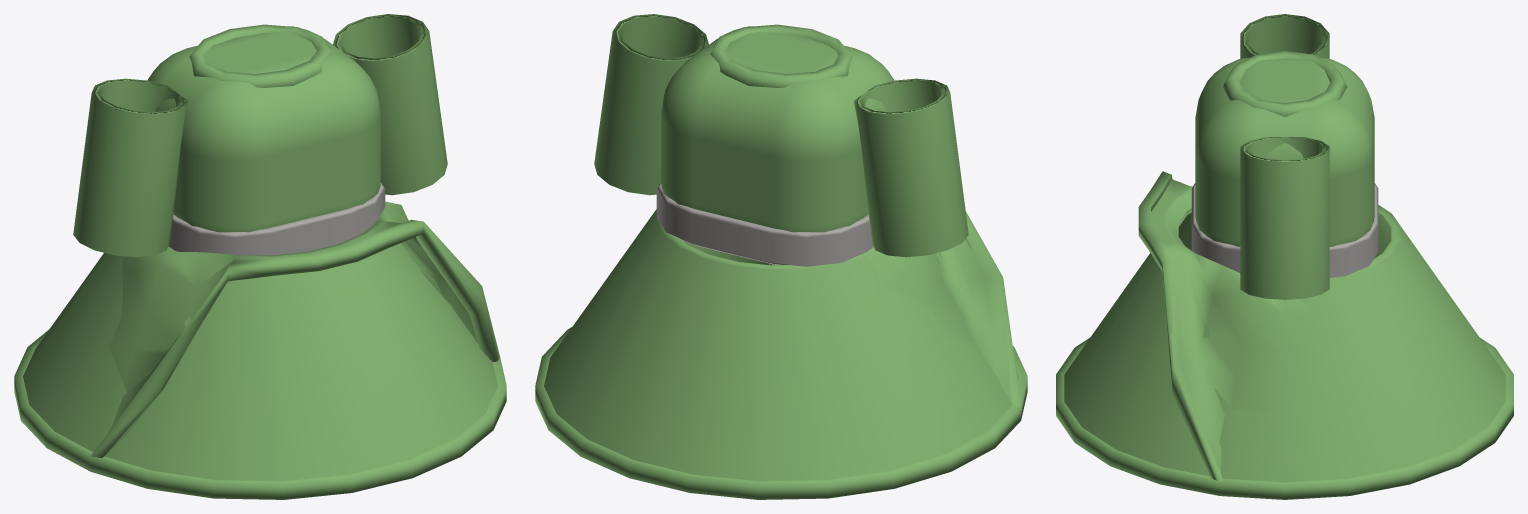
Rendered from casual_kimono.glb.
The picture shows the model from 3 angles, left to right: view 1: azimuth 30°, elevation 25°; view 2: azimuth 150°, elevation 25°; view 3: azimuth 270°, elevation 25°; orthographic projection. The views are drawn at different scales.
Visible parts, largest first — view 1: casual_kimono_Body, casual_kimono_Body_sit, casual_kimono_ArmL, casual_kimono_ArmR; view 2: casual_kimono_Body, casual_kimono_Body_sit, casual_kimono_ArmL, casual_kimono_ArmR; view 3: casual_kimono_Body, casual_kimono_Body_sit, casual_kimono_ArmR, casual_kimono_ArmL.
Part boxes in pixels (left/top/right/bottom): casual_kimono_Body: left=14, top=24, right=506, bottom=499; casual_kimono_Body_sit: left=90, top=51, right=499, bottom=457; casual_kimono_ArmL: left=73, top=78, right=188, bottom=257; casual_kimono_ArmR: left=333, top=14, right=447, bottom=195; casual_kimono_Body: left=535, top=24, right=1027, bottom=499; casual_kimono_Body_sit: left=656, top=49, right=1020, bottom=405; casual_kimono_ArmL: left=853, top=78, right=968, bottom=257; casual_kimono_ArmR: left=594, top=14, right=708, bottom=195; casual_kimono_Body: left=1056, top=51, right=1513, bottom=499; casual_kimono_Body_sit: left=1138, top=101, right=1391, bottom=481; casual_kimono_ArmR: left=1240, top=137, right=1329, bottom=299; casual_kimono_ArmL: left=1240, top=14, right=1329, bottom=58.
Size of the model in its own units: 0.748 by 0.6289 by 0.7404.
